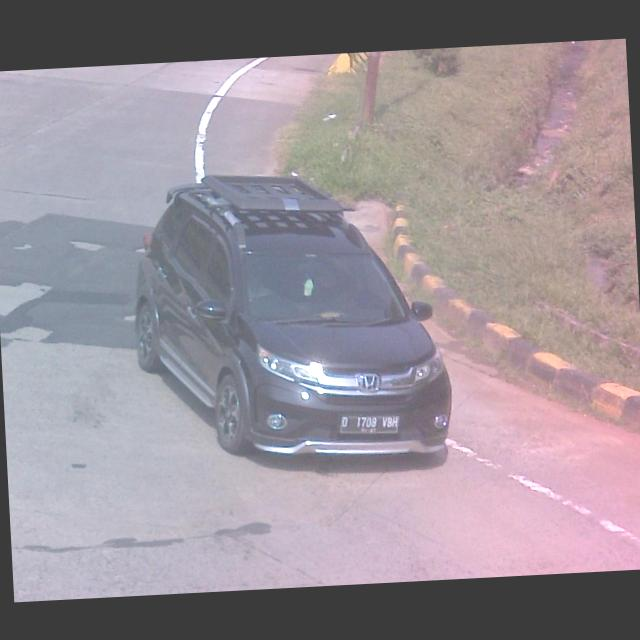plate: (339, 411, 402, 438)
